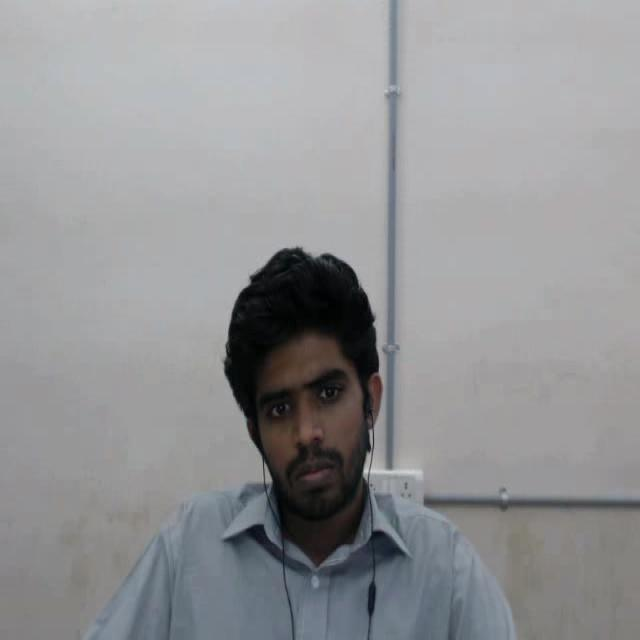Engaged: (199, 220, 428, 598)
